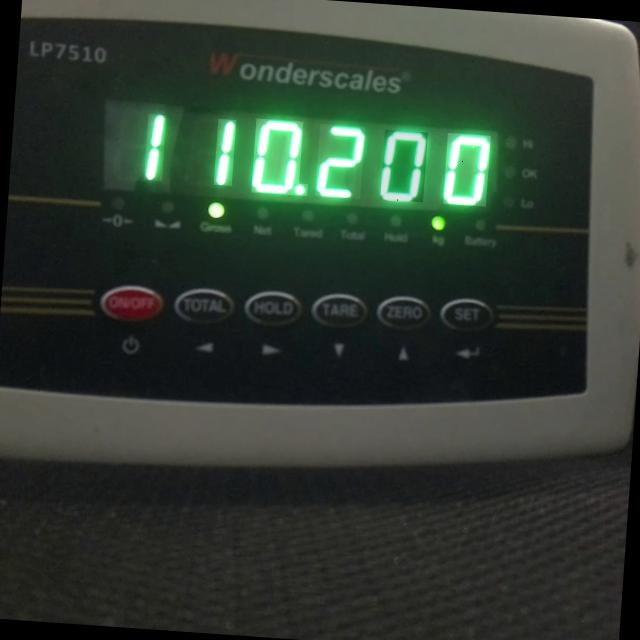.: (292, 183, 308, 196)
0: (251, 118, 303, 195), (380, 129, 429, 202), (442, 132, 490, 206)
1: (213, 119, 236, 186), (143, 114, 166, 180)
2: (314, 124, 364, 199)
